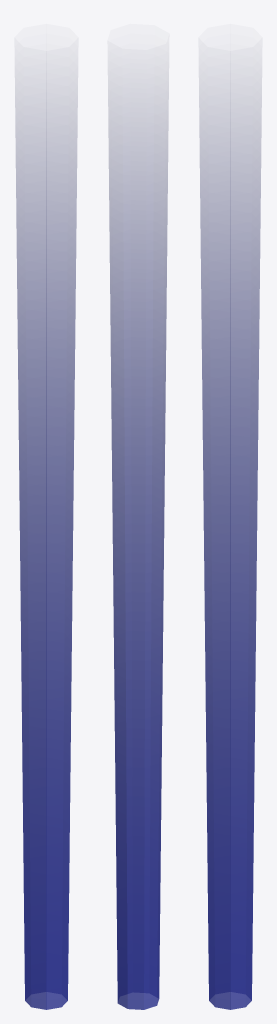
The model's file is FrsSaeule_Navy.gltf.
3 renders of one model, left to right at view 1: azimuth 90°, elevation 25°; view 2: azimuth 150°, elevation 25°; view 3: azimuth 270°, elevation 25°, orthographic.
Visible parts, largest first — view 1: frs_saeule_navy; view 2: frs_saeule_navy; view 3: frs_saeule_navy.
Boxes of the visible parts, x1,y1,x2,y2 form: frs_saeule_navy: [15, 73, 77, 1009]; frs_saeule_navy: [108, 92, 168, 1009]; frs_saeule_navy: [199, 73, 261, 1009].
Size of the model in its own units: 6 by 100 by 6.
